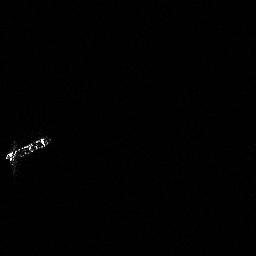ship: (3, 132, 55, 169)
